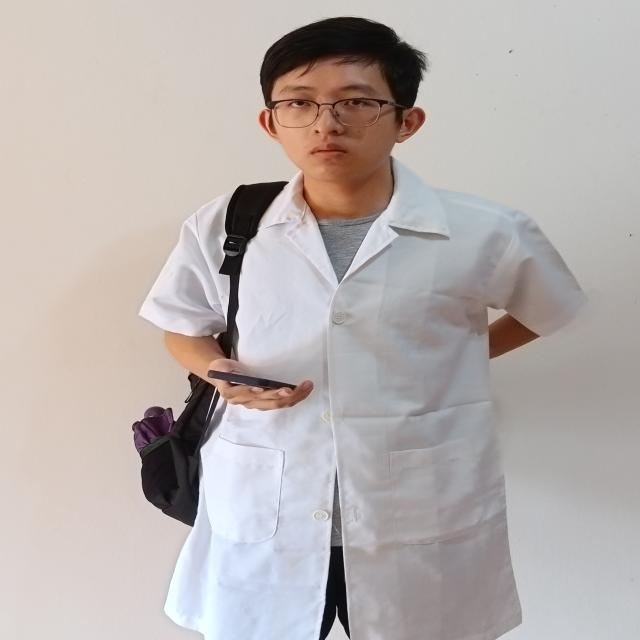person_with_labcoat: (133, 18, 586, 640)
